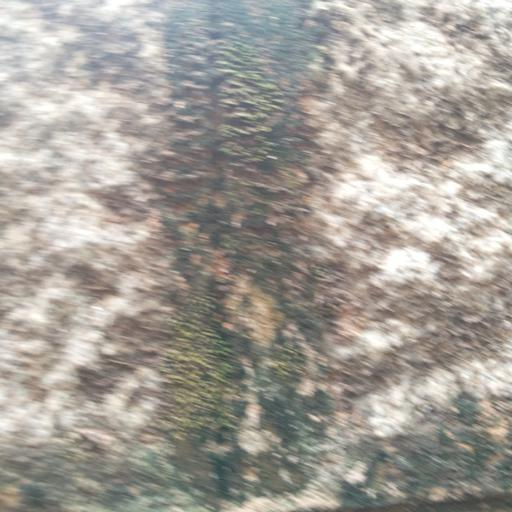algae: (71, 0, 455, 510)
